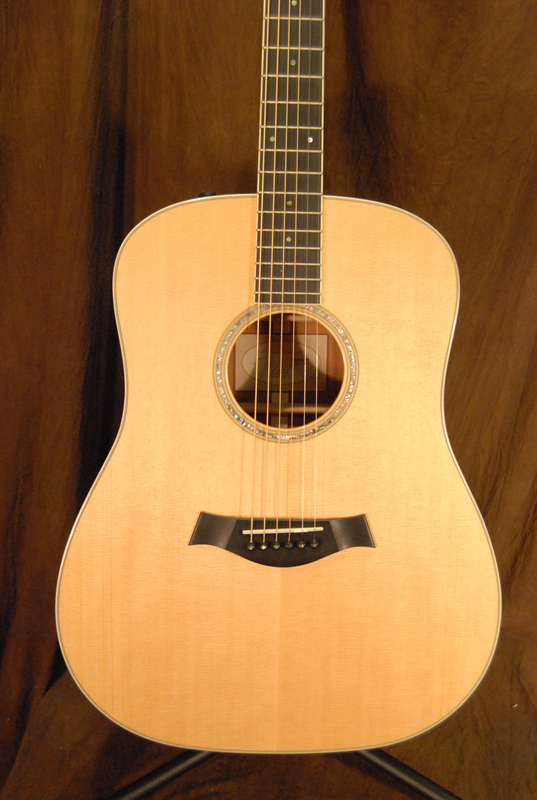guitar: (50, 1, 507, 758)
